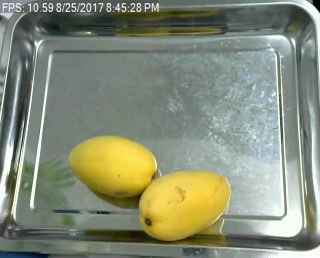Mango: (130, 168, 235, 240), (62, 132, 159, 200)
